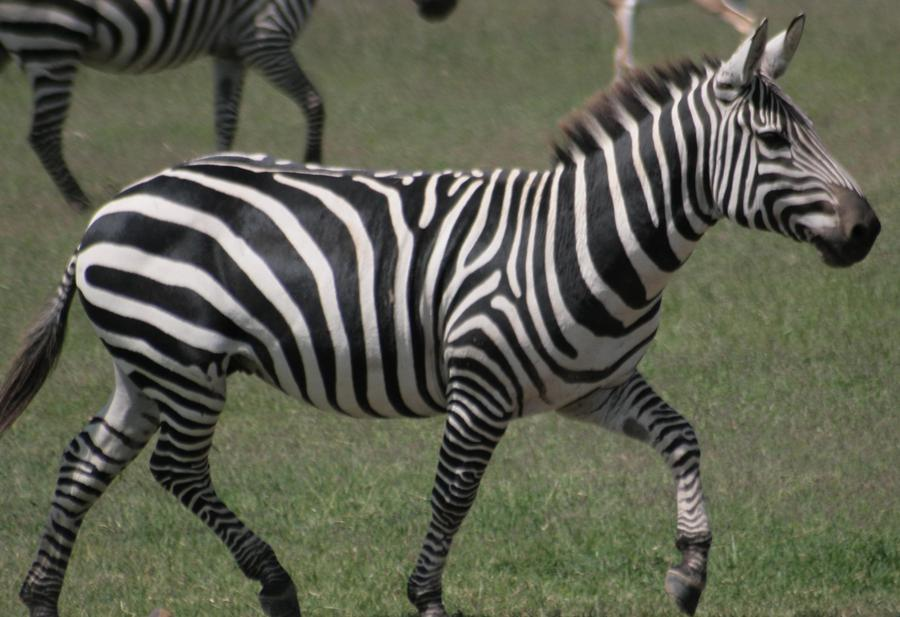zebra_plains: (93, 152, 589, 405)
